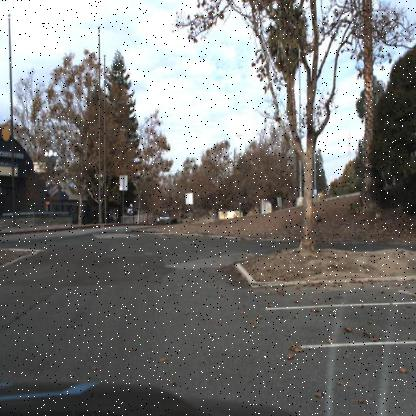car: (160, 215, 170, 222)
truck: (127, 198, 139, 216)
